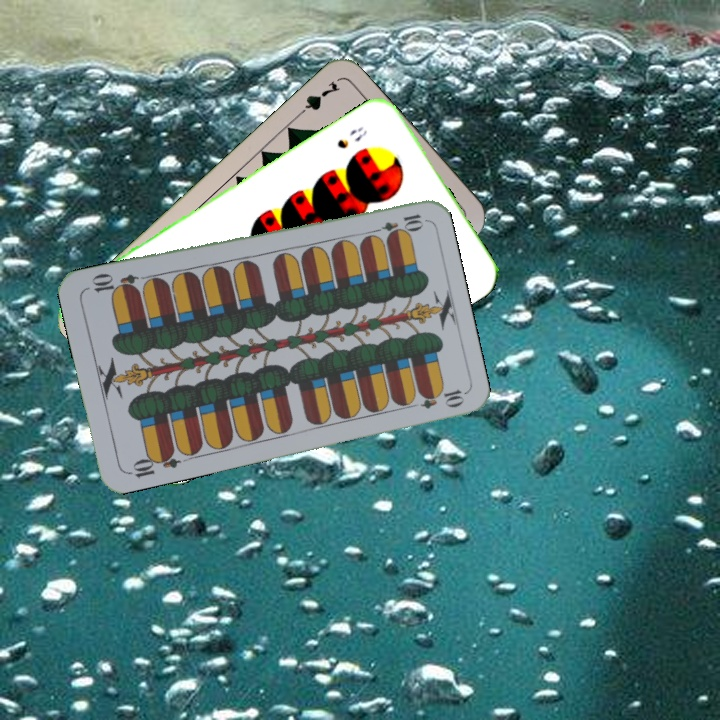E10: (124, 446, 182, 481), (366, 209, 426, 238)
G7: (291, 77, 343, 121)
S8: (332, 122, 371, 152)
